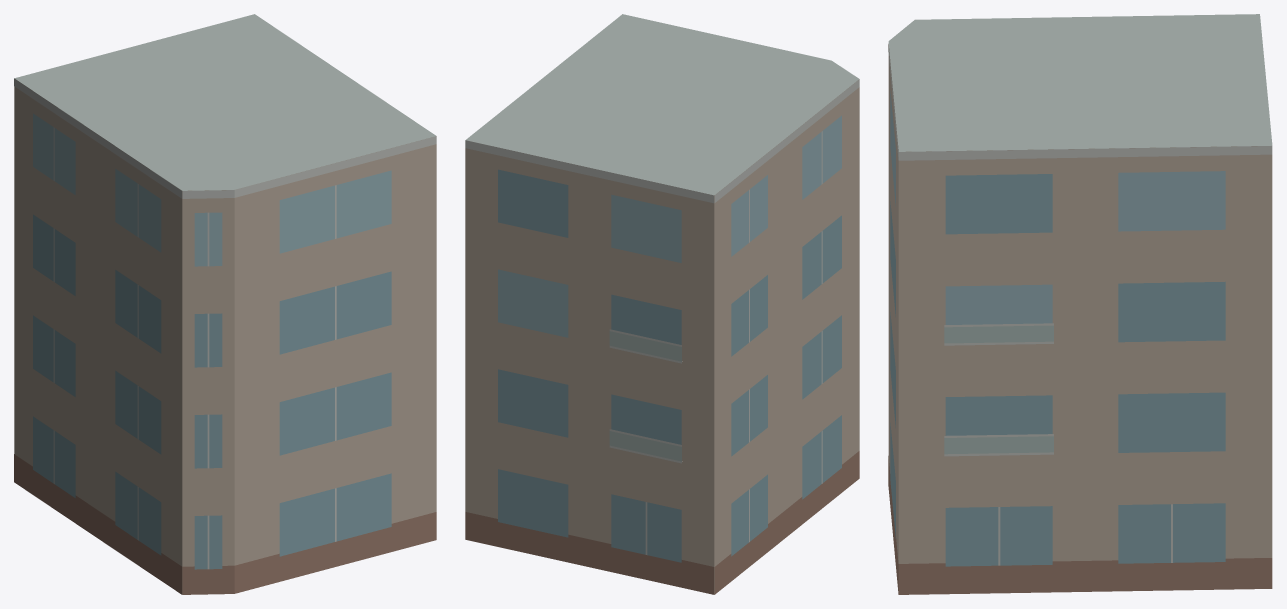
The model's file is residential-6a95625c-f6f9-4752-8139-fea5c46d7e0f.glb.
3 views of the same model, side by side, from view 1: azimuth 30°, elevation 25°; view 2: azimuth 150°, elevation 25°; view 3: azimuth 270°, elevation 25° (orthographic). The views are drawn at different scales.
Visible parts, largest first — view 1: residential-6a95625c-f6f9-4752-8139-fea5c46d7e0f.tmp; view 2: residential-6a95625c-f6f9-4752-8139-fea5c46d7e0f.tmp; view 3: residential-6a95625c-f6f9-4752-8139-fea5c46d7e0f.tmp.
Part boxes in pixels (x1=…): residential-6a95625c-f6f9-4752-8139-fea5c46d7e0f.tmp: x1=14, y1=14, x2=436, y2=594; residential-6a95625c-f6f9-4752-8139-fea5c46d7e0f.tmp: x1=465, y1=14, x2=859, y2=594; residential-6a95625c-f6f9-4752-8139-fea5c46d7e0f.tmp: x1=888, y1=14, x2=1272, y2=594.
Size of the model in its own units: 8.15 by 12.2 by 9.6.
